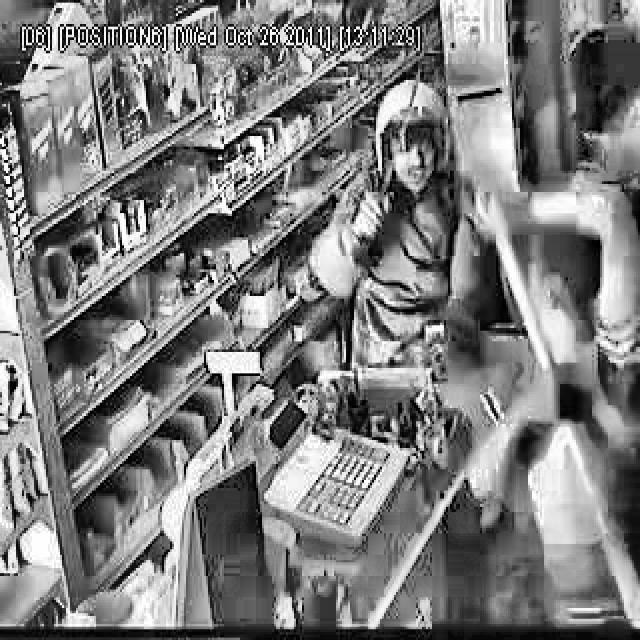robbery: (303, 52, 496, 379)
